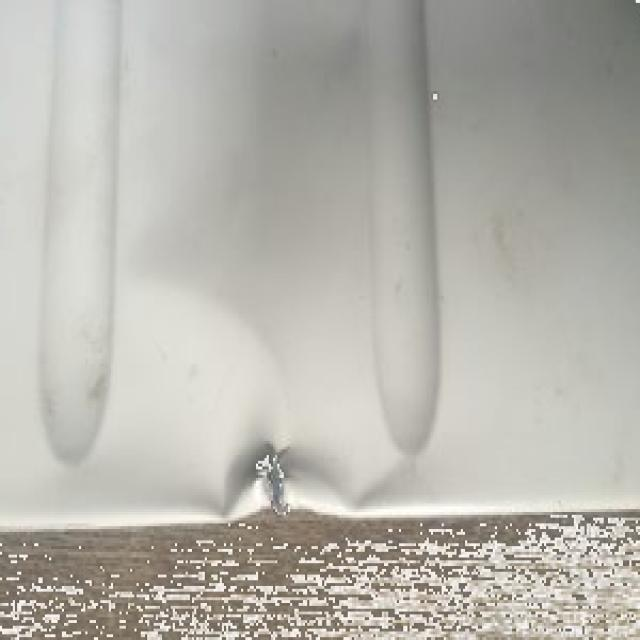crack: (252, 441, 297, 521)
